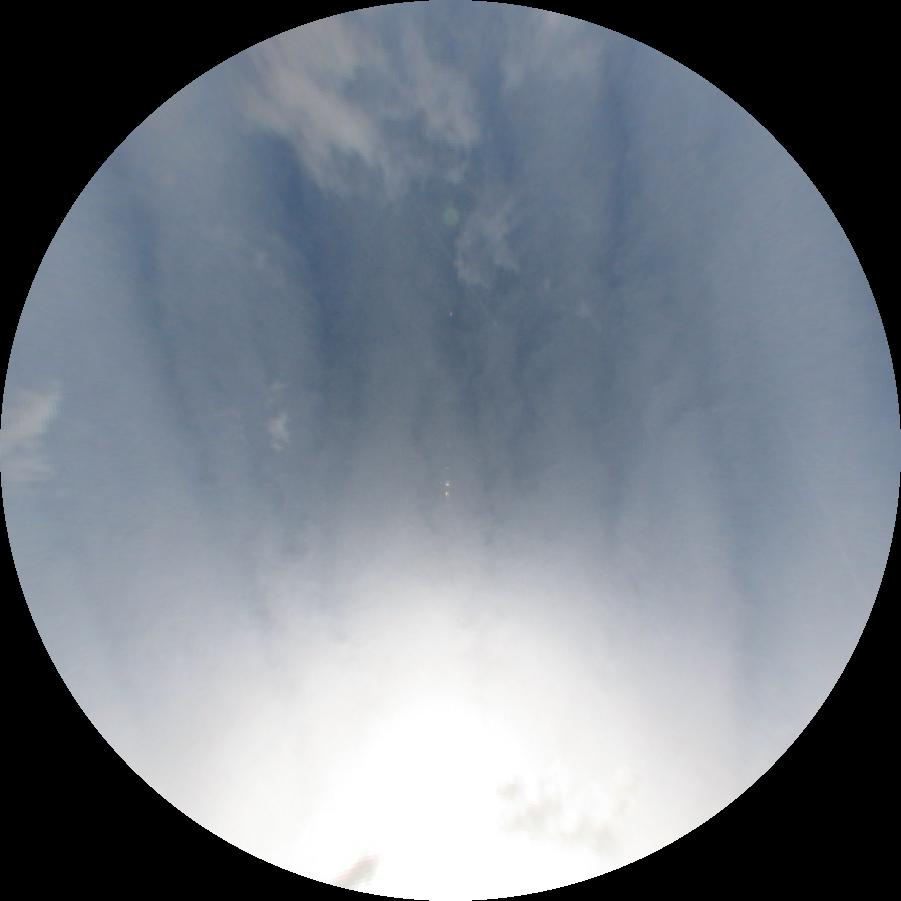contrail young: (786, 420, 872, 613), (408, 192, 500, 331)
sun: (240, 664, 619, 899)
